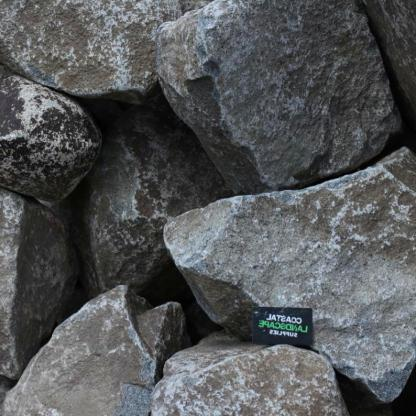Igneous_Granite: (144, 142, 415, 395), (151, 2, 406, 165), (11, 281, 169, 412), (154, 324, 351, 415), (0, 60, 95, 206), (0, 193, 62, 379)
